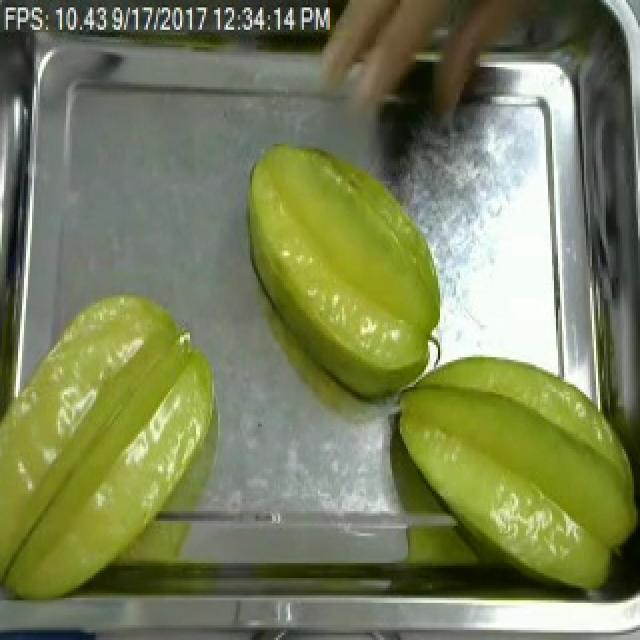fruit: (0, 276, 226, 610), (384, 345, 640, 598), (232, 134, 452, 387)
